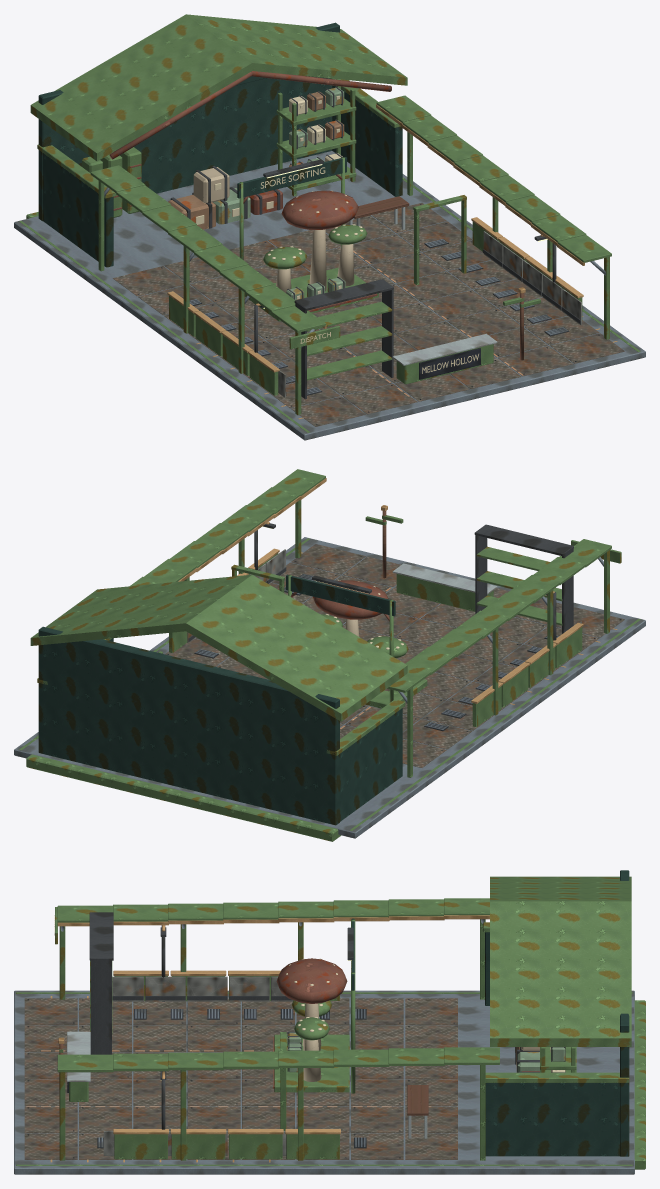
The model's file is toxibloom-depot.glb.
3 views of the same model, one above another, from view 1: azimuth 30°, elevation 25°; view 2: azimuth 150°, elevation 25°; view 3: azimuth 270°, elevation 25° (orthographic). The views are drawn at different scales.
Visible parts, largest first — view 1: toxibloom-depot; view 2: toxibloom-depot; view 3: toxibloom-depot.
Boxes of the visible parts, <box> form: toxibloom-depot: <box>14,14,645,440</box>; toxibloom-depot: <box>14,469,645,841</box>; toxibloom-depot: <box>14,870,645,1174</box>.
Bounding box in the file's own units: 16.9 × 8.39 × 25.34.
Materials: 20 (18 with a texture image).
